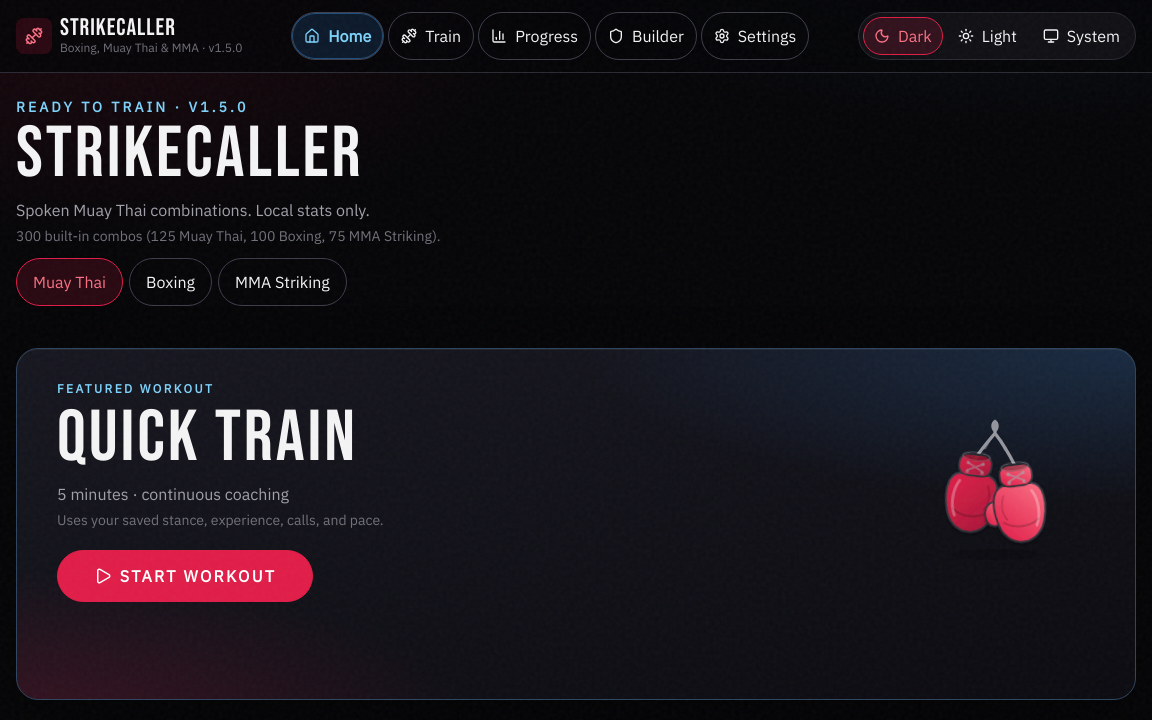
Scenario: audio startup reliability › double tap Start during preparation starts the session only once
Step 1. Click the button with aria-label "quick train" → (185, 576), box [57, 550, 313, 602]
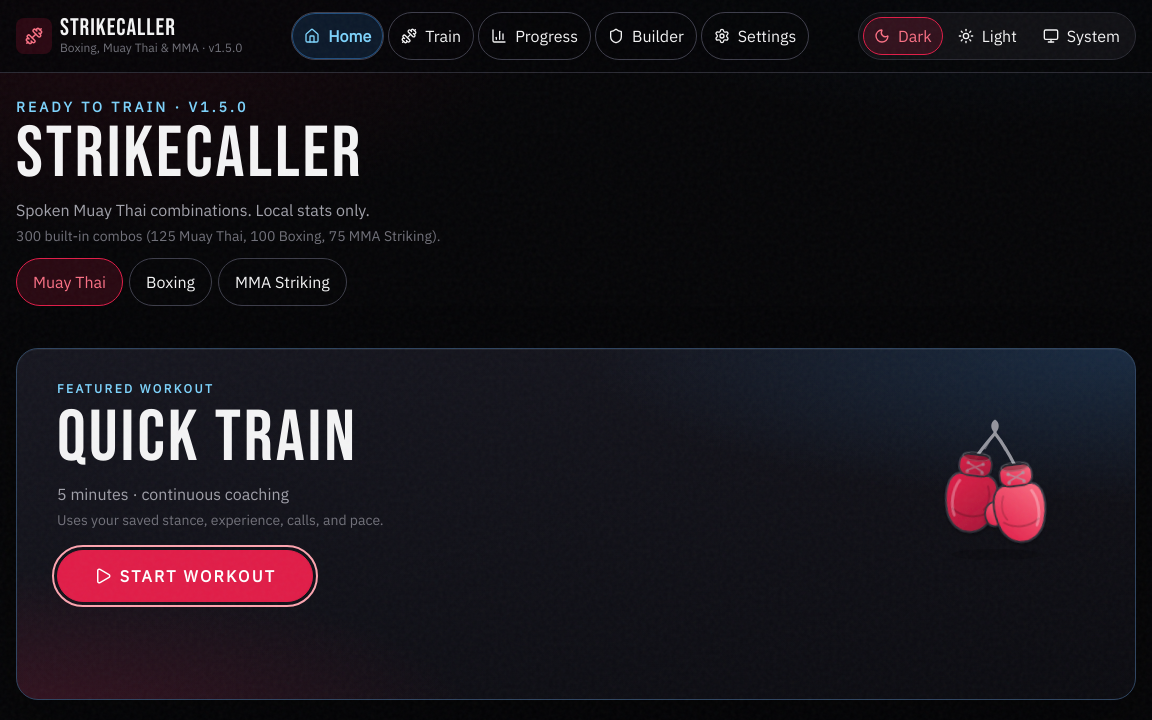
Step 2. Click the button with aria-label "quick train" → (185, 576), box [57, 550, 313, 602]
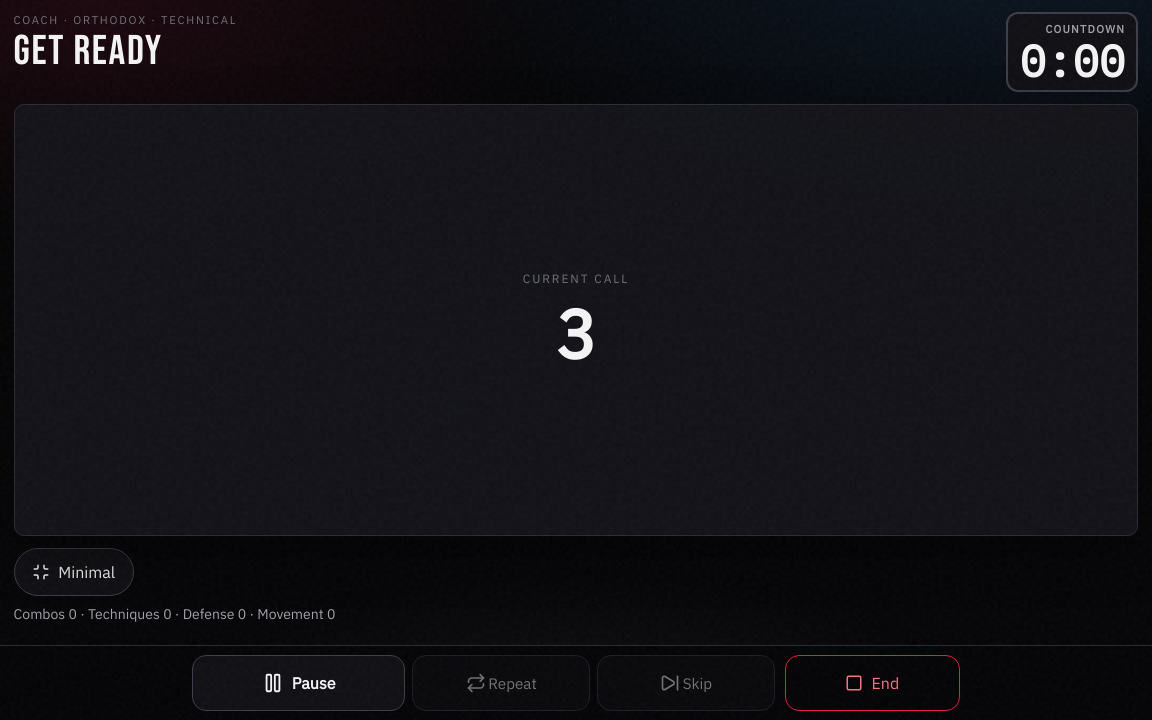
Check: the element named "session controls" is shown, box [0, 645, 1151, 719]
